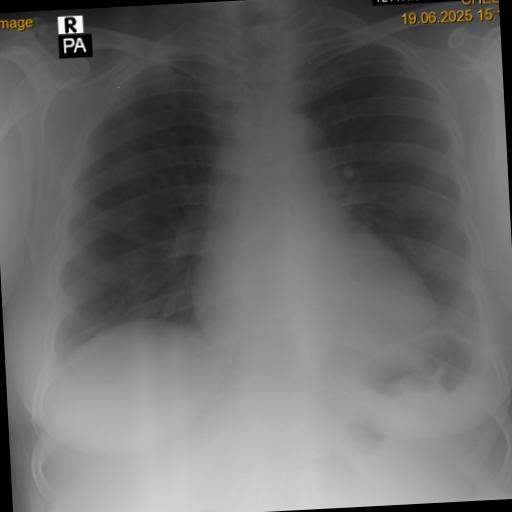kardiomegali: (179, 188, 450, 386)
